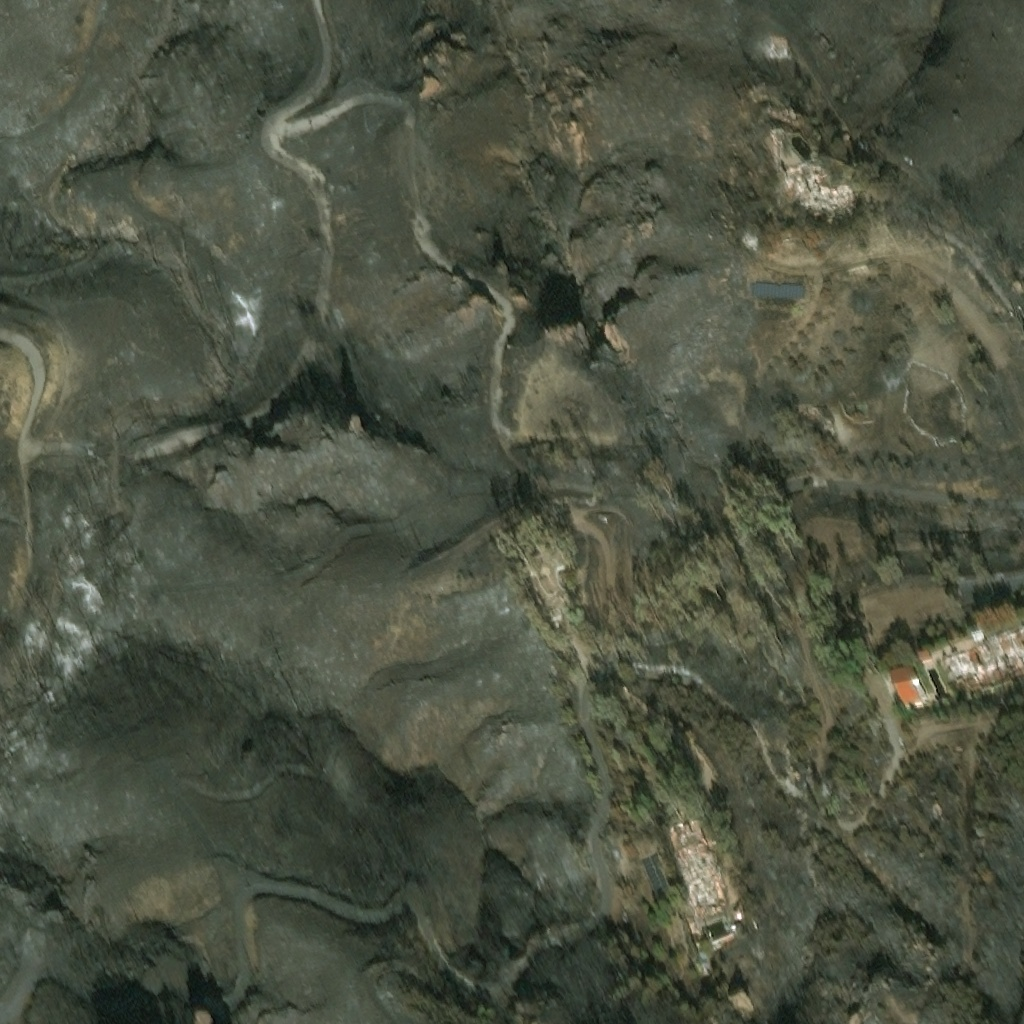0 no-damage: (889, 664, 926, 705), (706, 921, 731, 939), (918, 649, 931, 662)
3 destroyed: (940, 615, 1023, 677), (782, 161, 858, 216), (675, 833, 723, 907), (758, 137, 786, 169), (672, 820, 706, 844), (778, 102, 804, 124), (722, 897, 745, 916), (770, 127, 789, 145), (765, 35, 788, 49)
4 un-classified: (194, 979, 218, 997), (793, 401, 816, 419), (694, 939, 706, 959)
